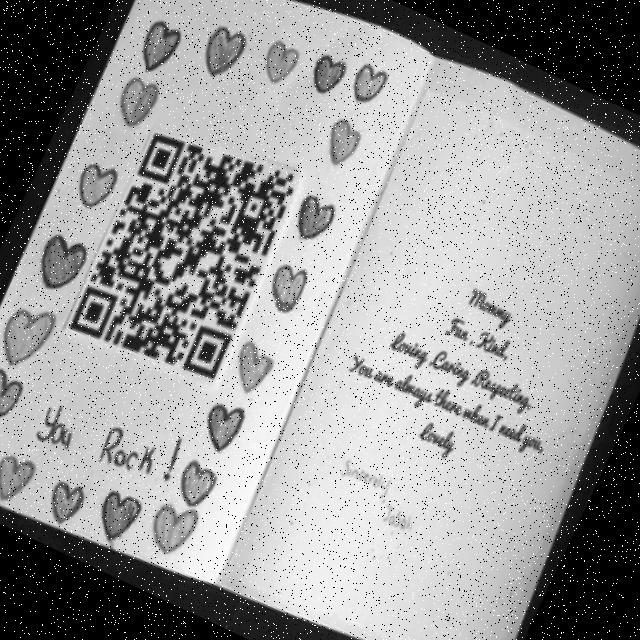QR-codes: (61, 110, 310, 398)
